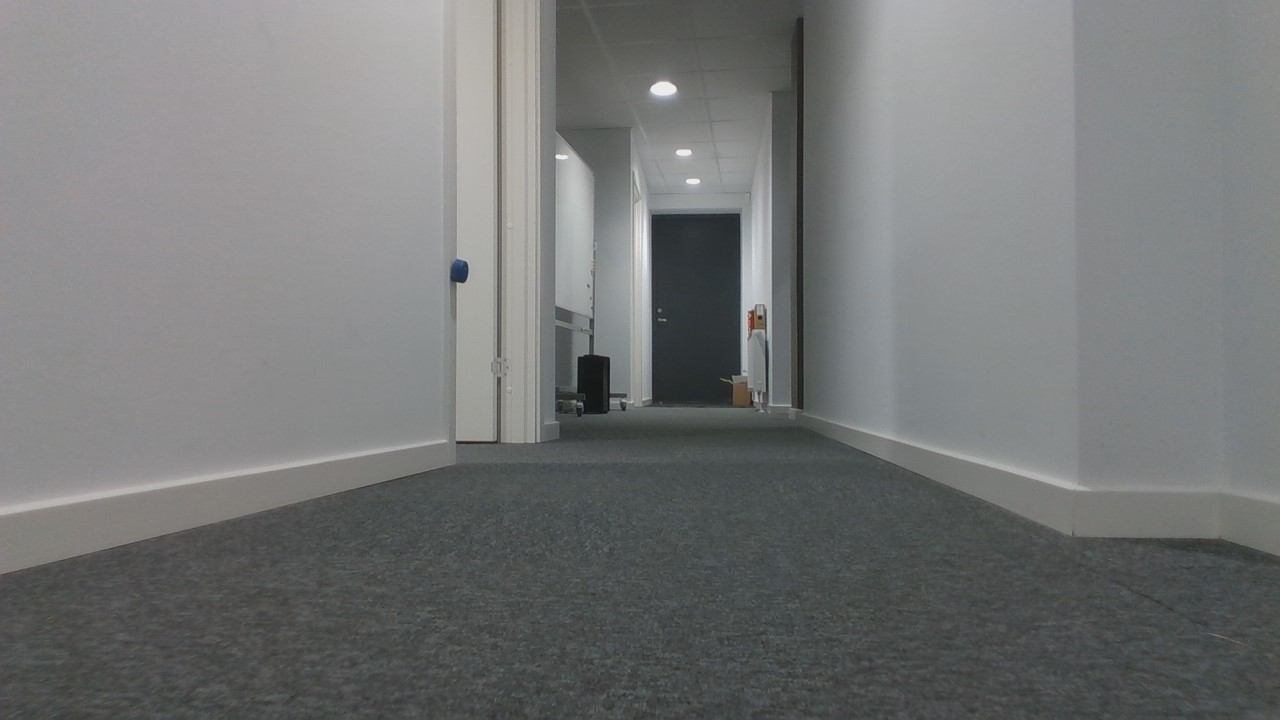alfa: (449, 256, 469, 283)
